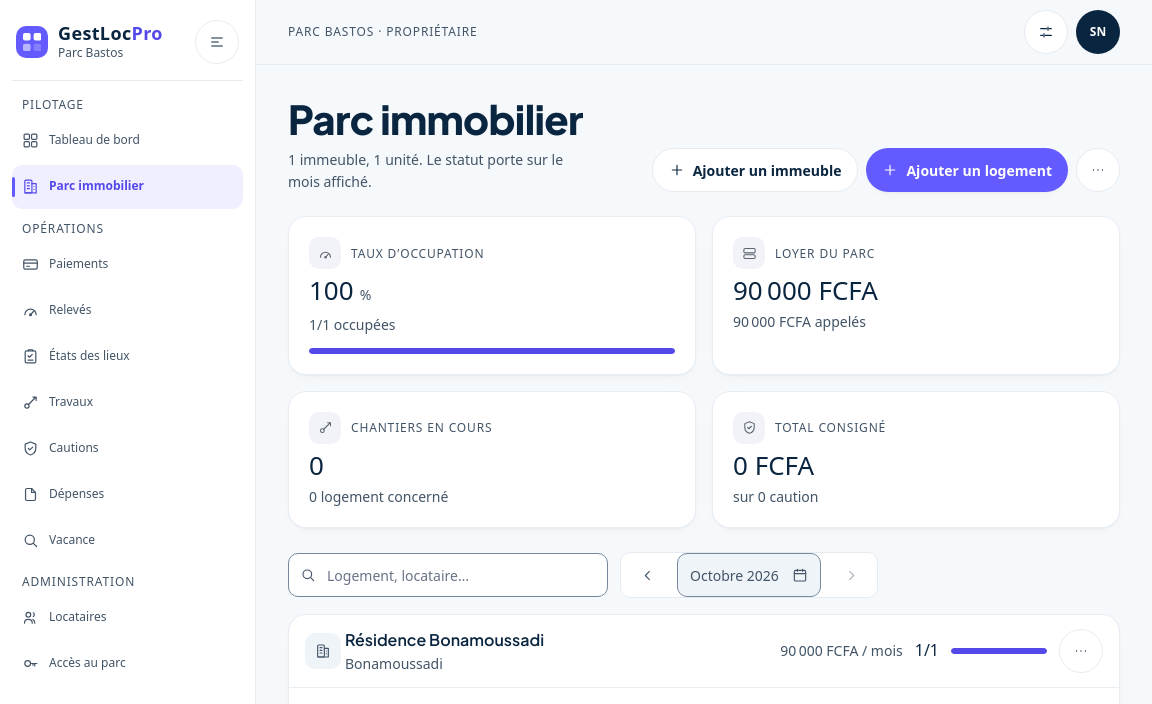
l’export du parc › laisse au propriétaire SES deux entrées, et ne lui en retire aucune
This screenshot has width=1152, height=704.
Step 1. Click the button named "Autres actions" → (1098, 170), box x1=1076 y1=148 x2=1120 y2=192
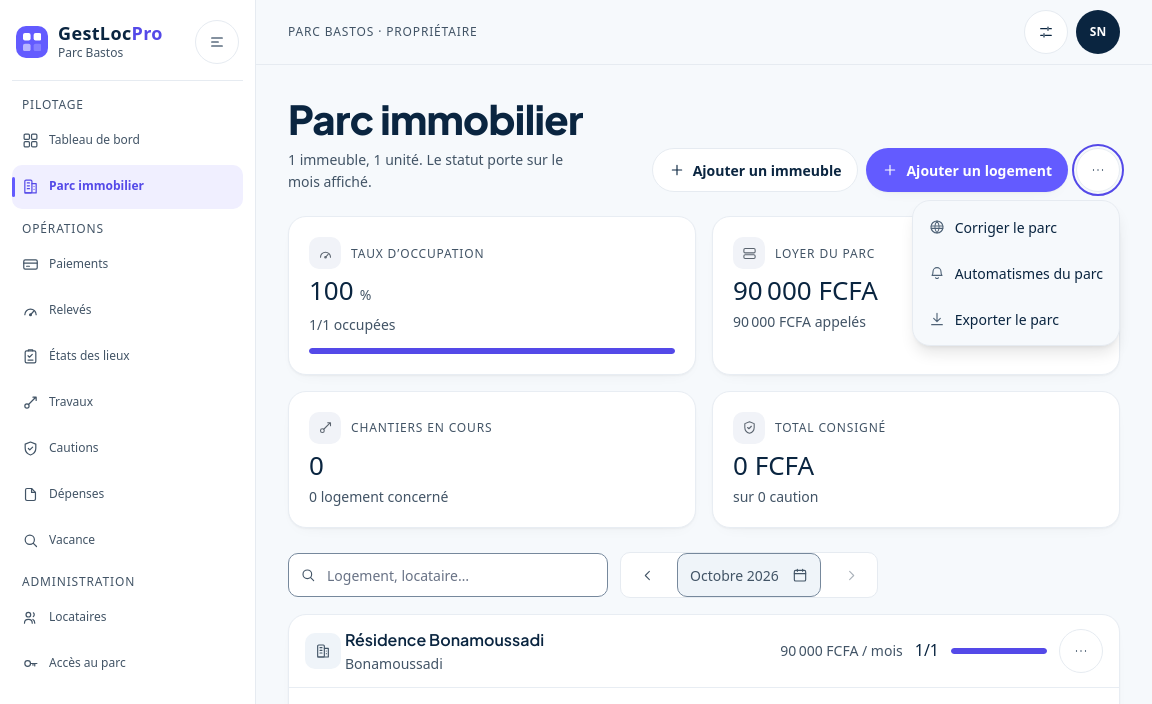
Check: the menu item "Corriger le parc" is shown, box x1=917 y1=205 x2=1115 y2=249
Check: the menu item "Exporter le parc" is shown, box x1=917 y1=297 x2=1115 y2=341
